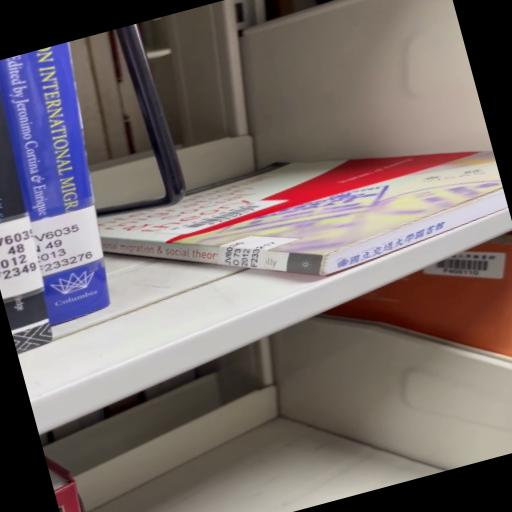flat: (99, 152, 508, 276)
